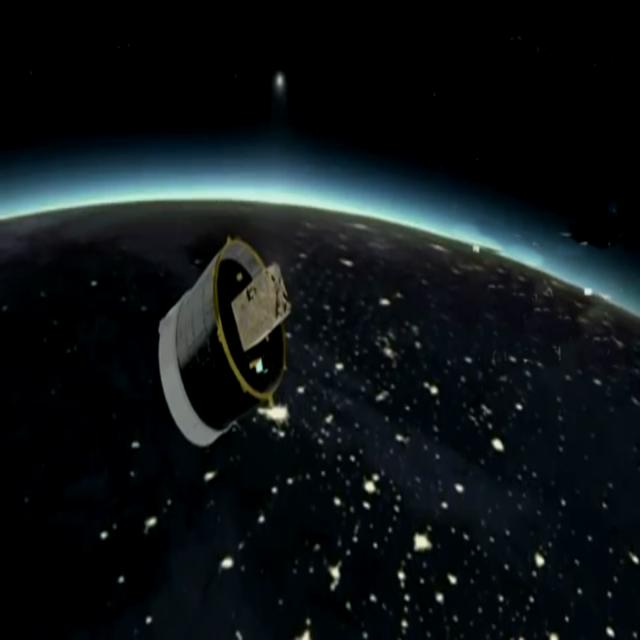satellite: (148, 212, 298, 458)
